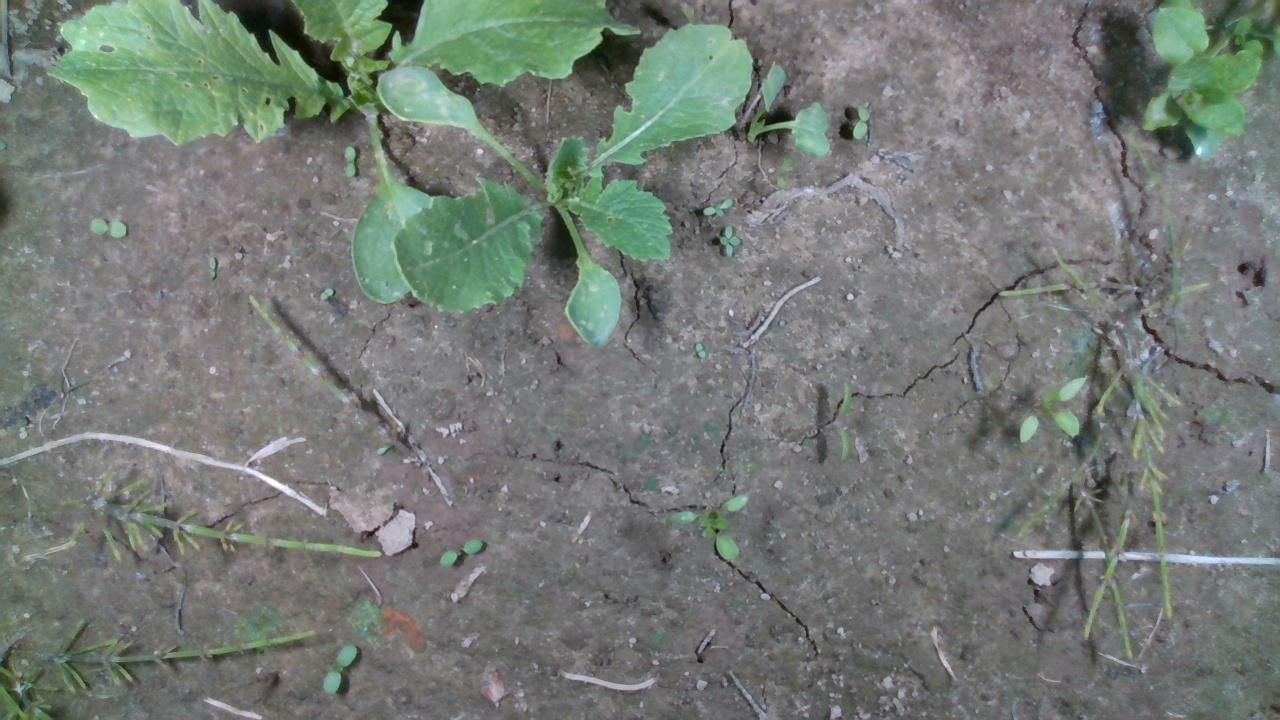weed: (434, 537, 485, 568), (838, 377, 854, 463)
